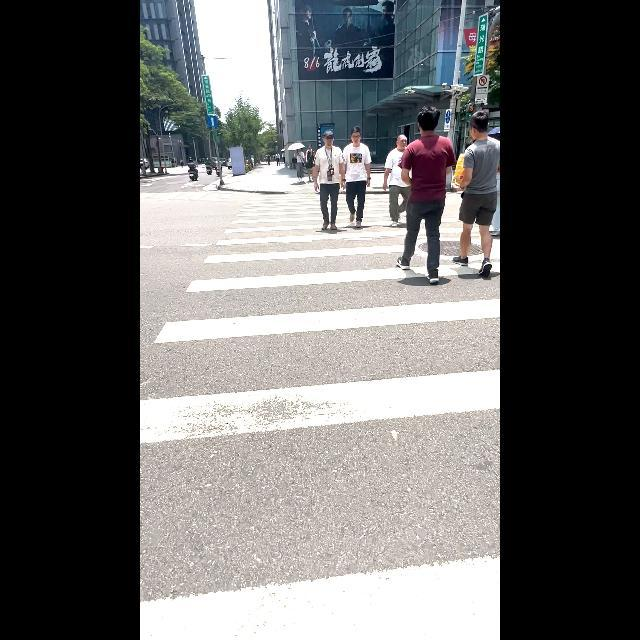sidewalk: (141, 194, 500, 640)
